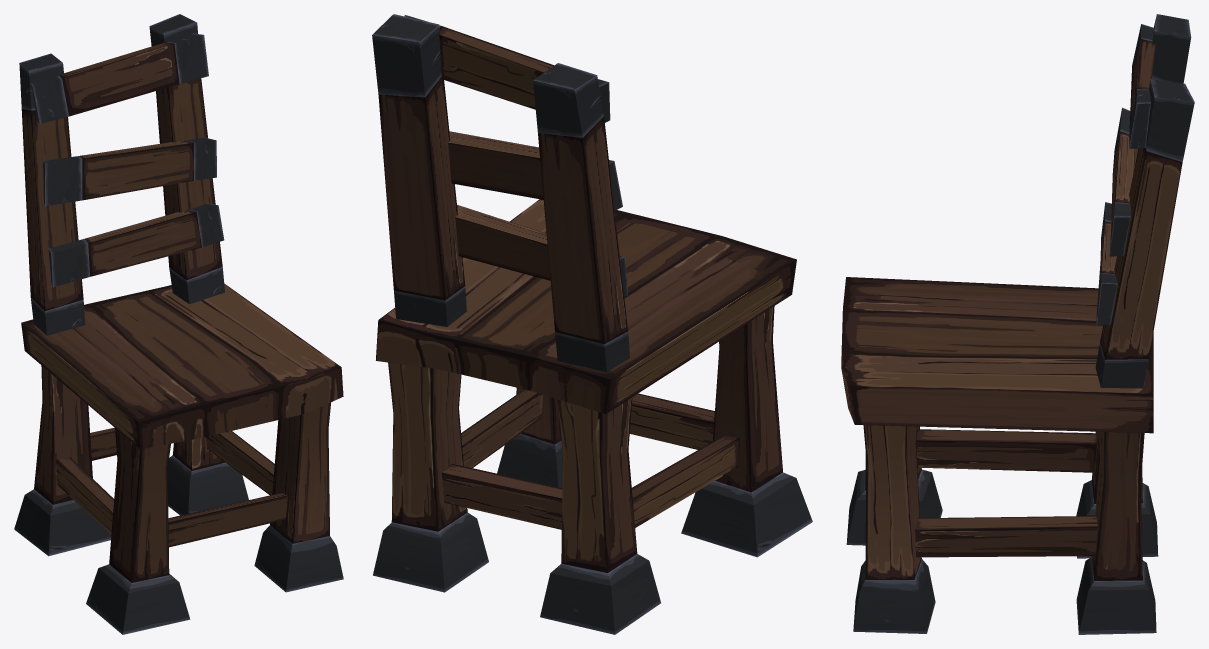
File: SM_PROP_chair_01_dungeon.fbx
The picture shows the model from 3 angles, left to right: view 1: azimuth 30°, elevation 25°; view 2: azimuth 150°, elevation 25°; view 3: azimuth 270°, elevation 25°; orthographic projection. The views are drawn at different scales.
Parts seen in each view (by area): view 1: SM_PROP_chair_01_dungeon; view 2: SM_PROP_chair_01_dungeon; view 3: SM_PROP_chair_01_dungeon.
Boxes of the visible parts, x1,y1,x2,y2 form: SM_PROP_chair_01_dungeon: [14, 14, 343, 634]; SM_PROP_chair_01_dungeon: [372, 14, 812, 634]; SM_PROP_chair_01_dungeon: [841, 14, 1194, 634].
Size of what is drawn, in the model's own units: 54.76 by 106 by 64.49.
